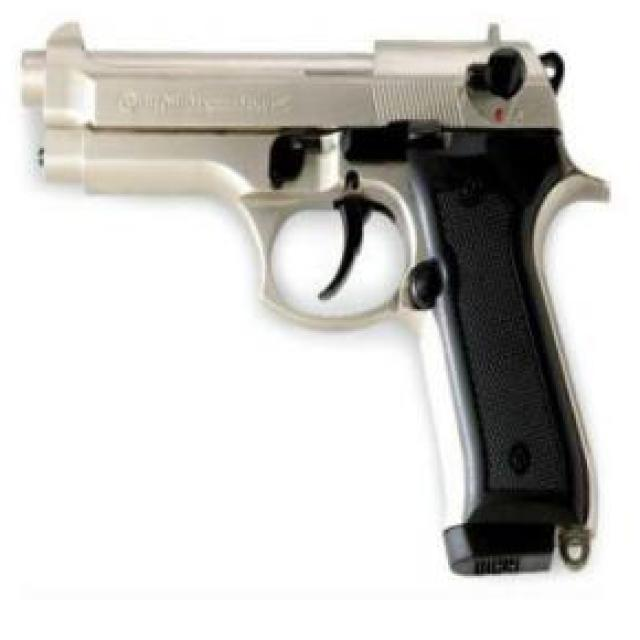pistol: (20, 18, 613, 579)
